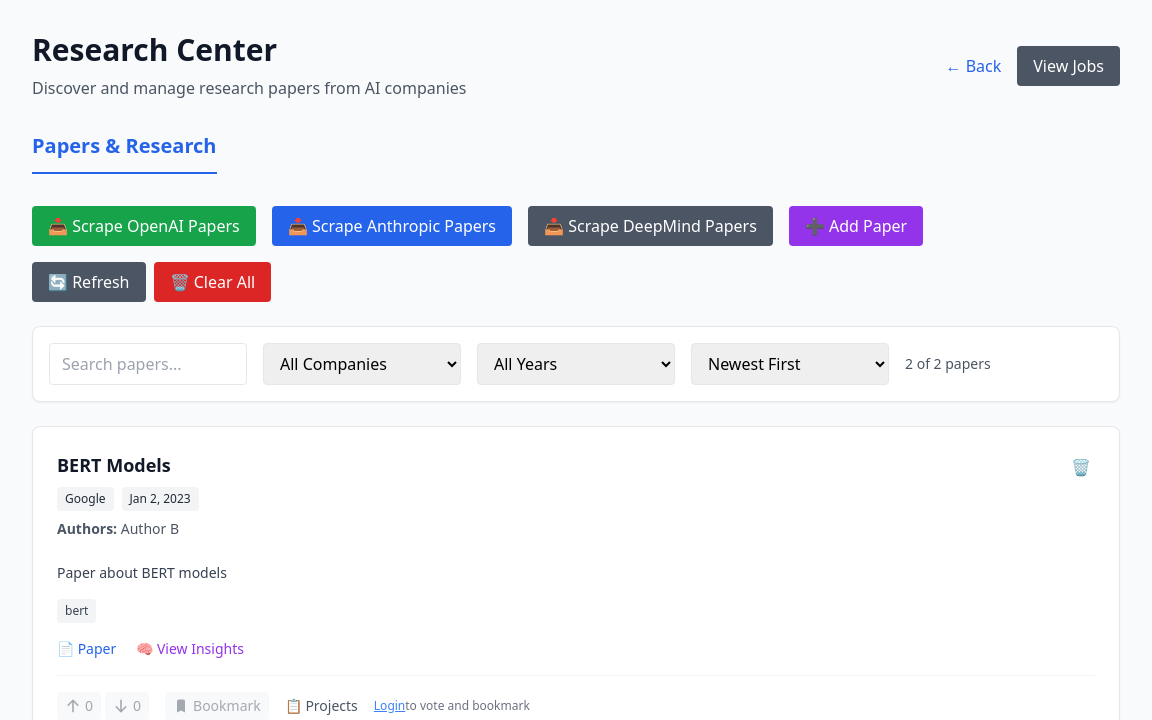
Test: Research Page › filters papers by search query
Expected: the heading "BERT Models" is shown, x1=57 y1=453 x2=171 y2=477
// Search for "attention"
Type "attention" into the field with placeholder "Search papers...".
click(148, 364); type("attention")  # box x1=49 y1=343 x2=247 y2=385
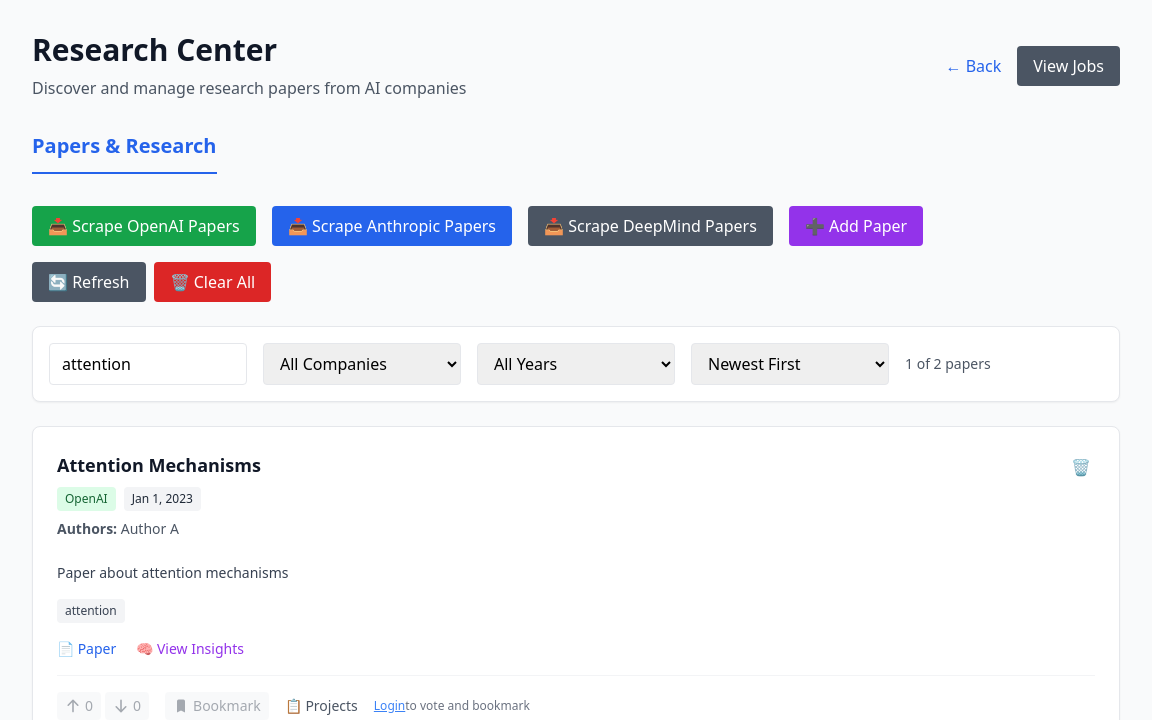
Expected: the heading "Attention Mechanisms" is shown, x1=57 y1=453 x2=261 y2=477
Expected: the heading "BERT Models" is gone
